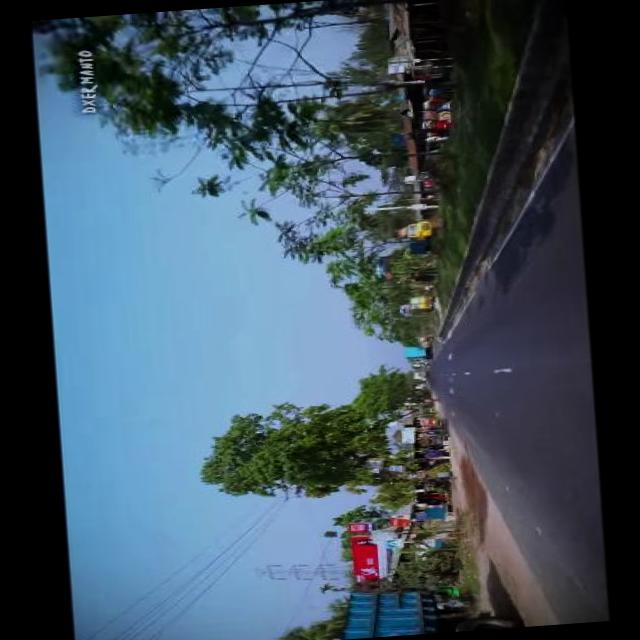motorcycle: (418, 118, 453, 130), (419, 110, 454, 120)
truck: (394, 218, 438, 258), (404, 295, 433, 314), (400, 346, 433, 362)
